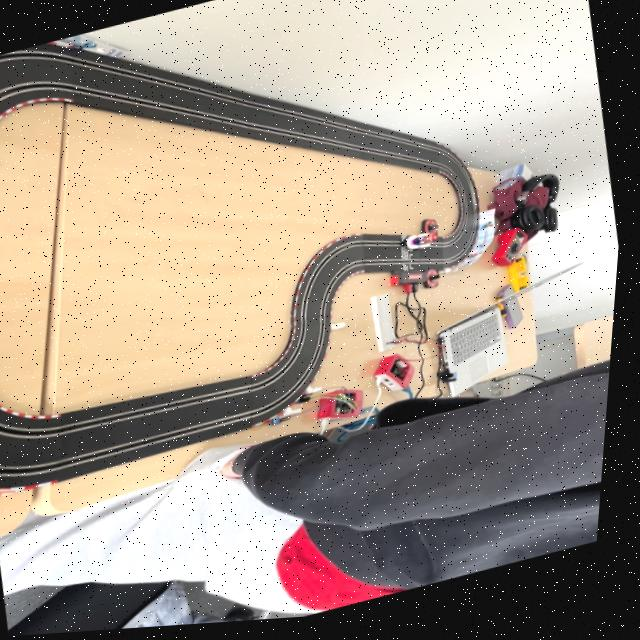mario: (405, 234, 447, 260)
